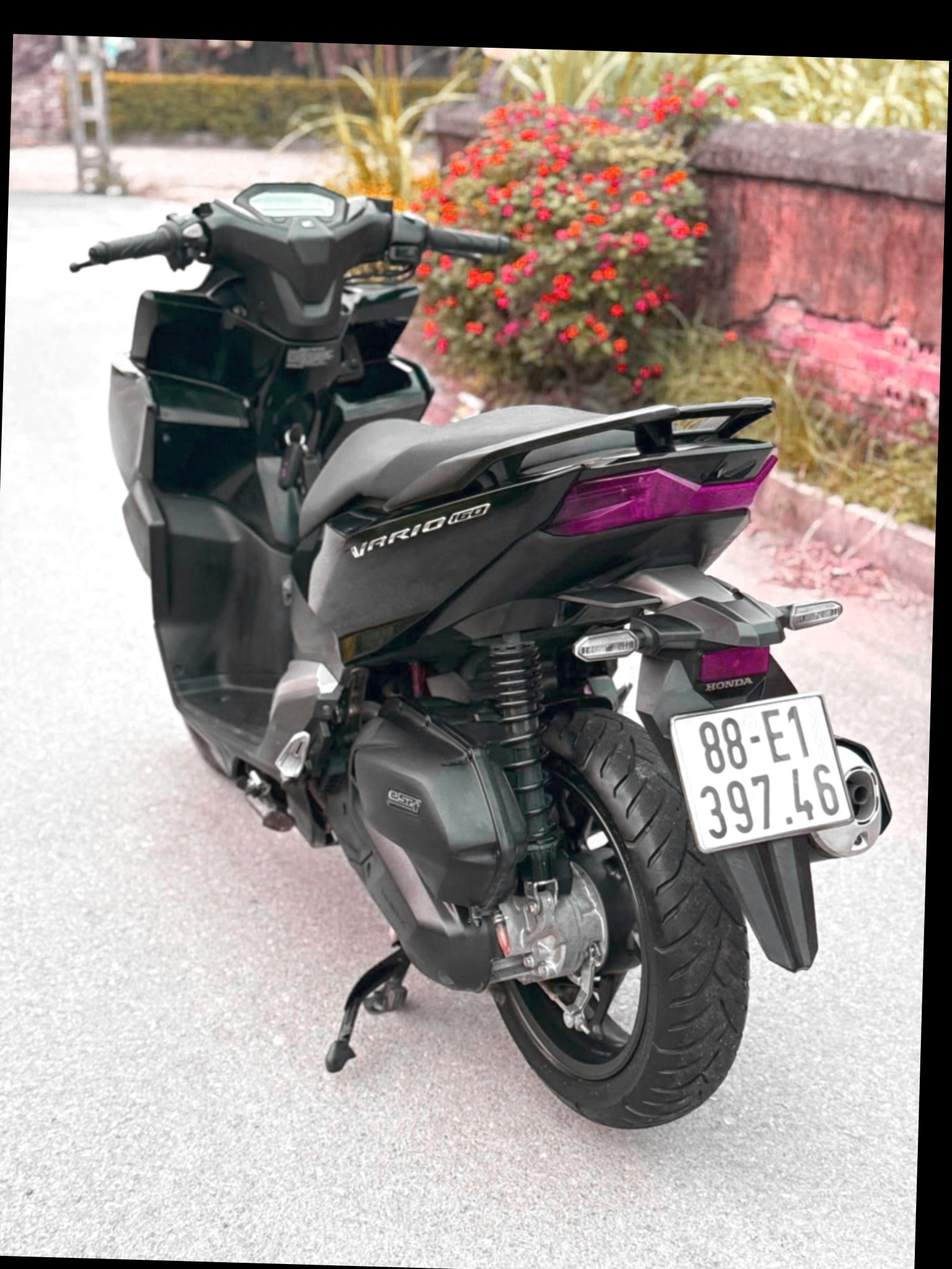Bien-so: (664, 691, 860, 866)
